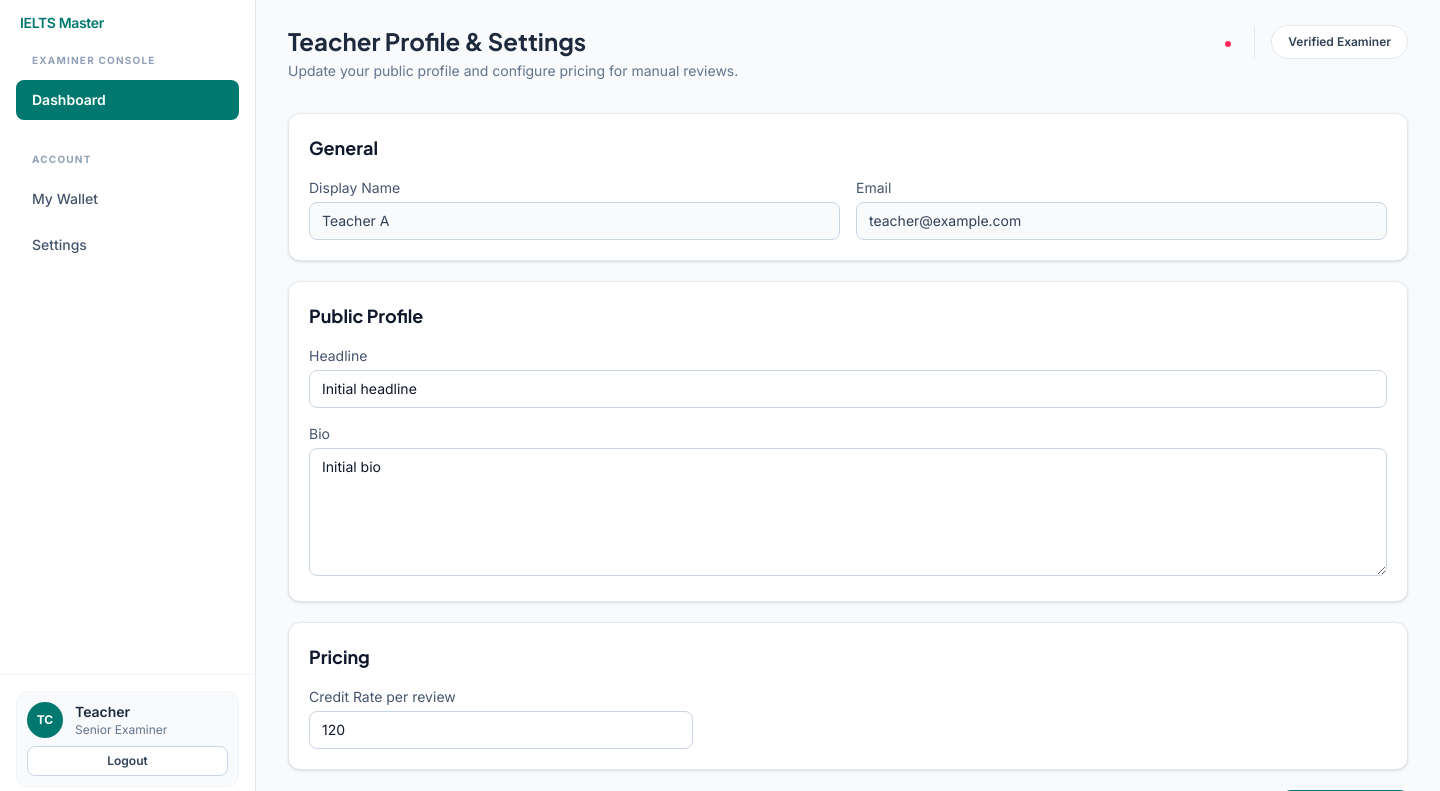
SettingsPage › saves settings via API when token exists
The image size is (1440, 791).
Step 1. Replace the text in the field with placeholder "IELTS Speaking & Writing Examiner" with "New headline" → (848, 389), box x1=309 y1=370 x2=1387 y2=408
(page scrolled)
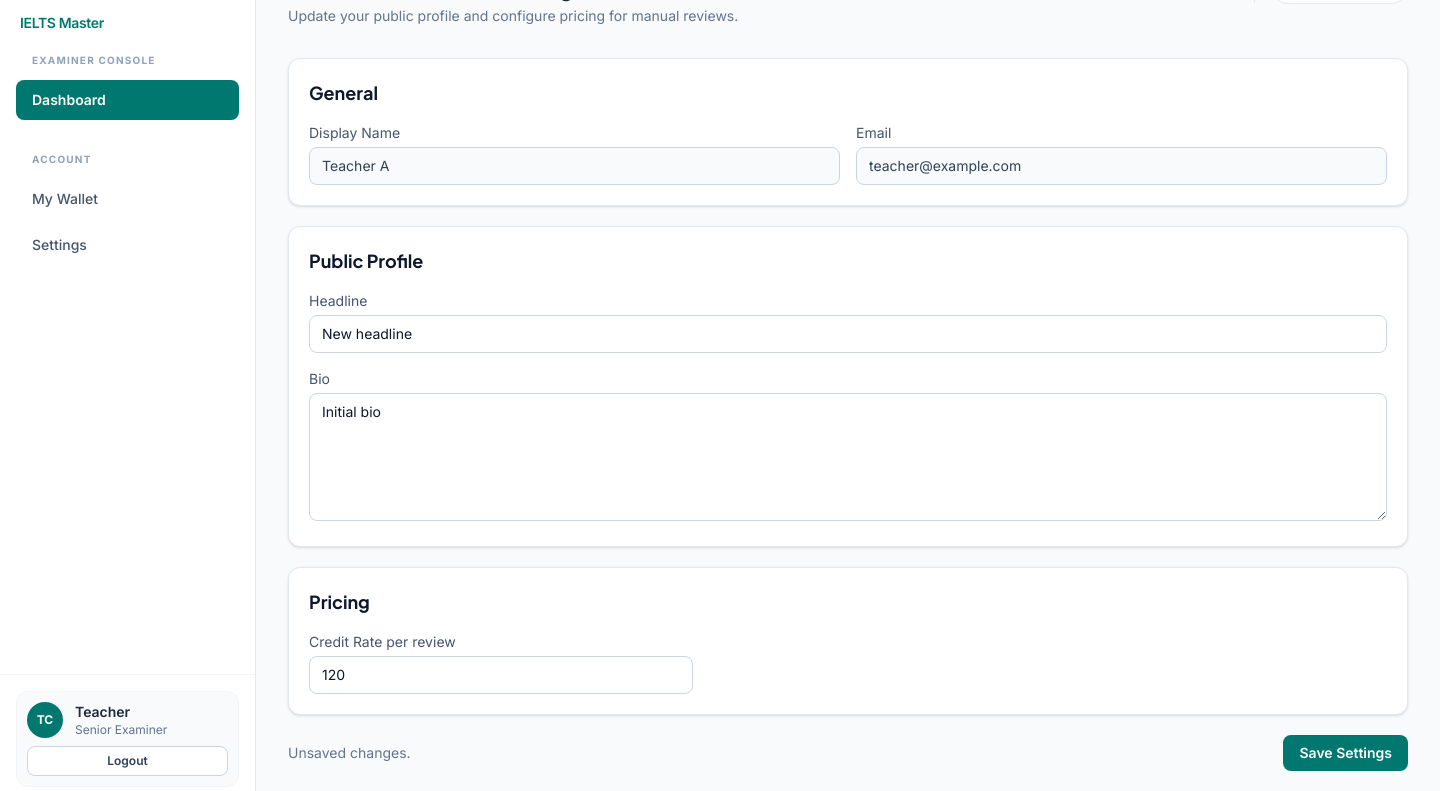
Step 2. Click the button "Save Settings" → (1346, 753), box x1=1284 y1=735 x2=1408 y2=771
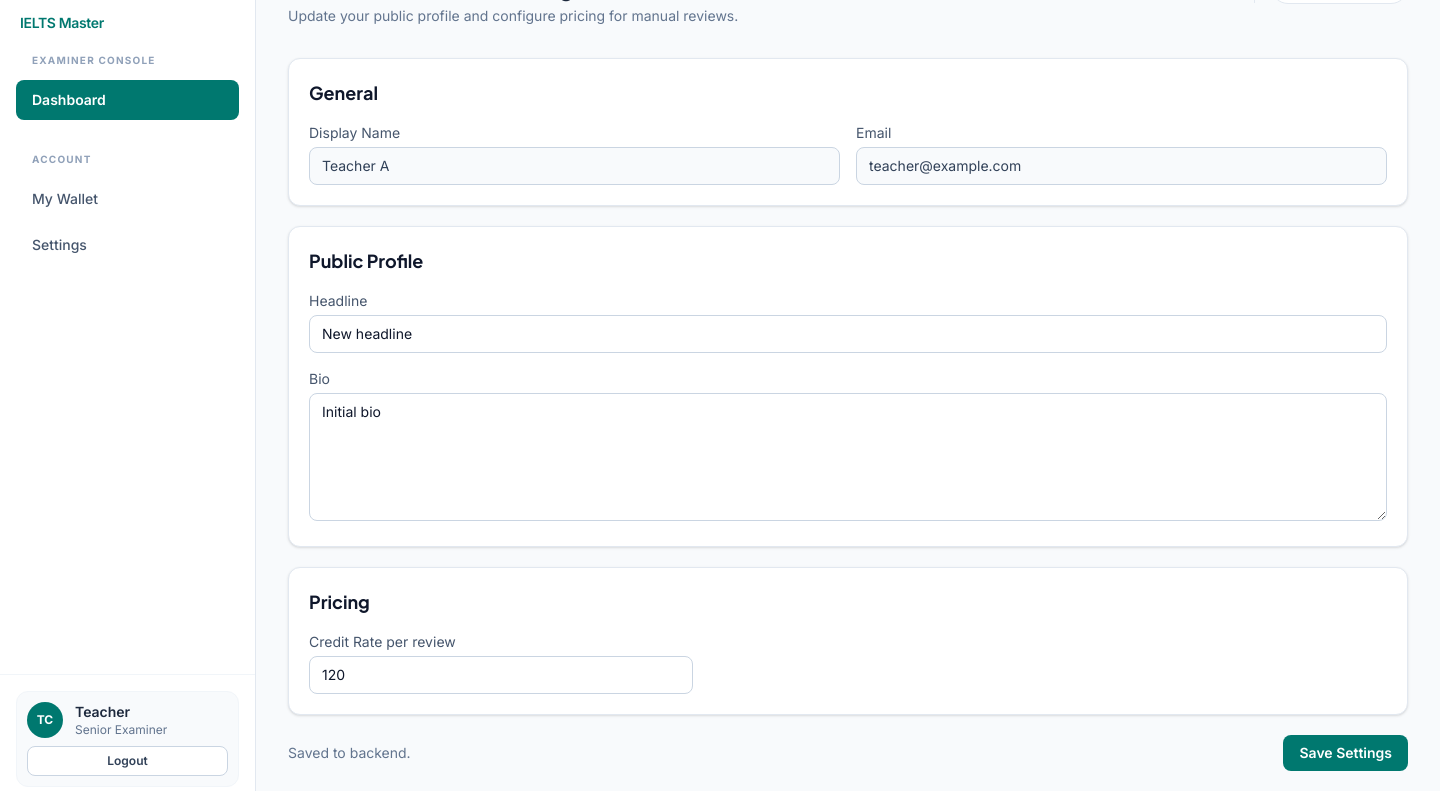
Expected: the text "Saved to backend." is shown, x1=288 y1=743 x2=411 y2=763
